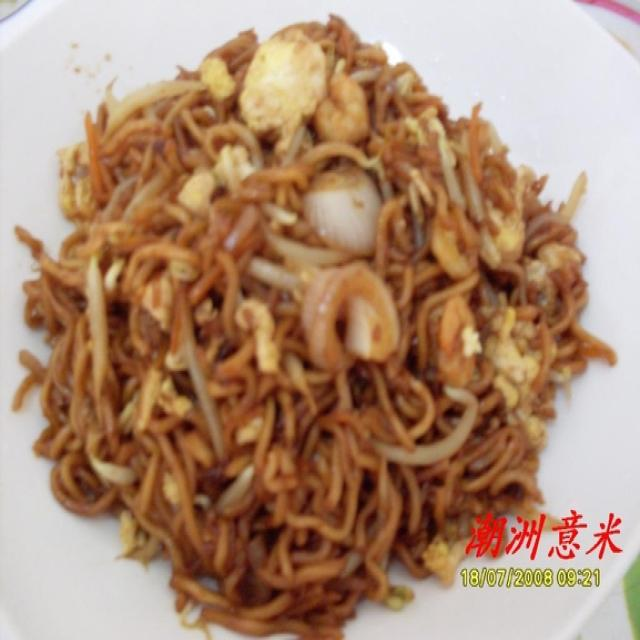面条主食: (13, 15, 628, 634)
